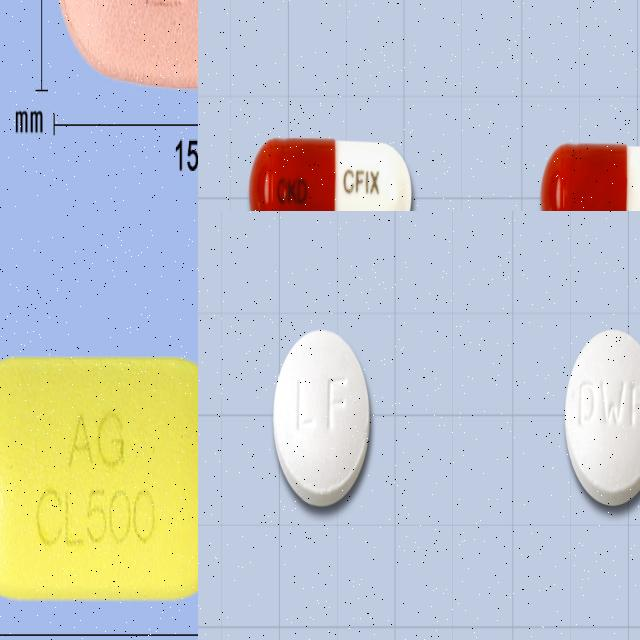Lefloxin: (272, 328, 371, 508), (564, 327, 640, 507)
Lexacin: (52, 0, 198, 86)
Pocef Cap: (249, 136, 412, 211), (540, 144, 640, 211)
Sinil Ciprofloxacin HCl Tab: (0, 354, 198, 605)
